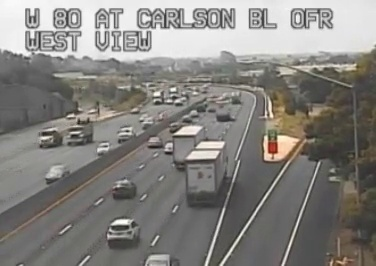car: (107, 219, 140, 243), (112, 180, 135, 197), (147, 136, 161, 147)
truck: (186, 141, 226, 205), (172, 126, 206, 170)
